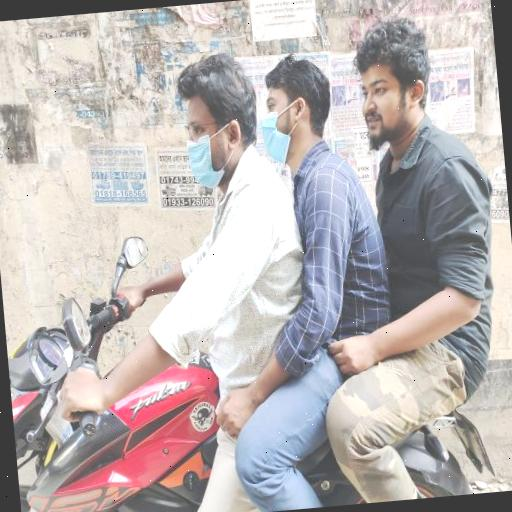no helmet: (149, 32, 266, 219)
triple riding: (0, 9, 512, 512)
